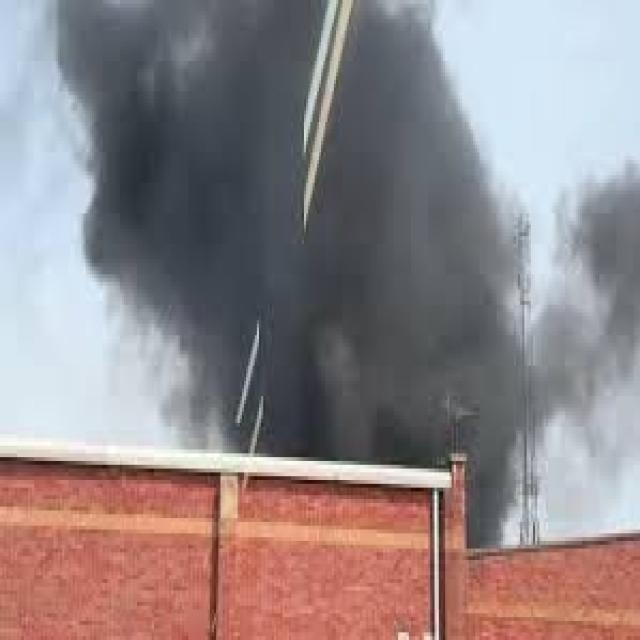Smoke: (45, 0, 640, 548)
